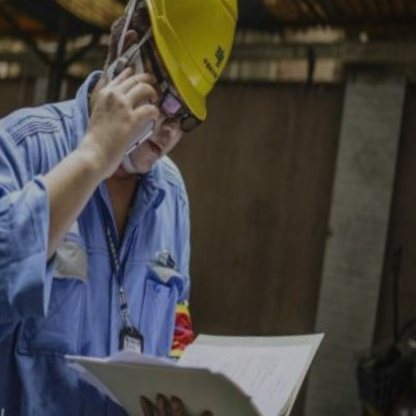yellow: (107, 0, 249, 129)
